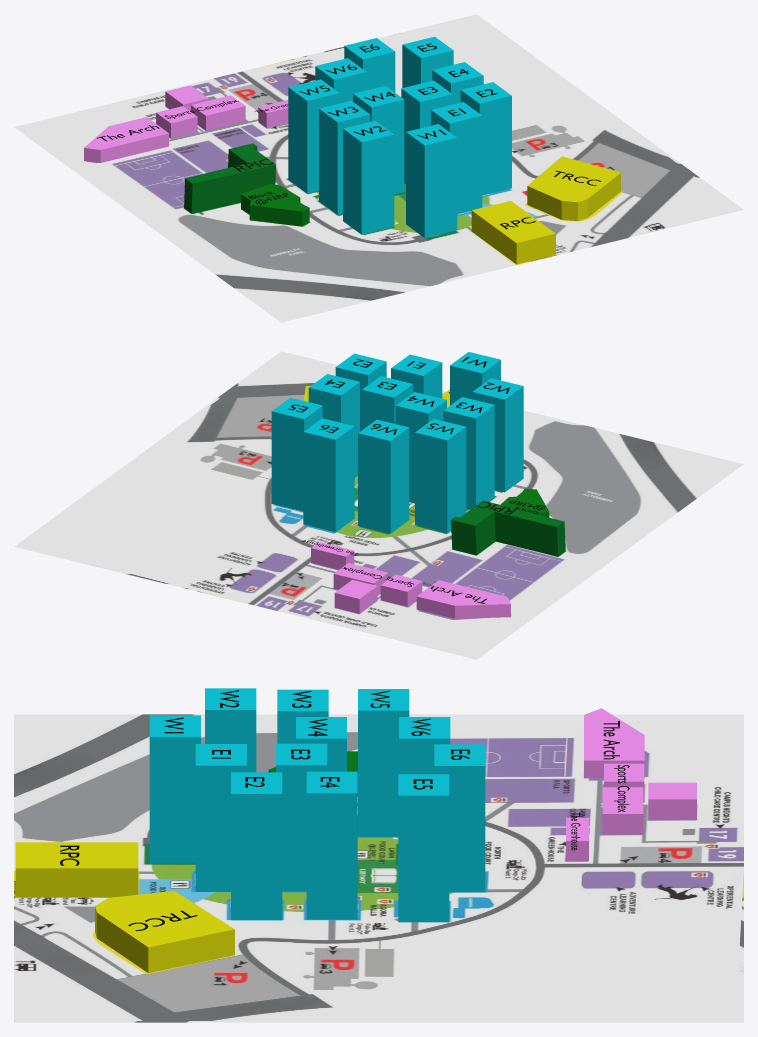
File: campusmap.glb
The picture shows the model from 3 angles, top to bottom: view 1: azimuth 30°, elevation 25°; view 2: azimuth 150°, elevation 25°; view 3: azimuth 270°, elevation 25°; orthographic projection. The views are drawn at different scales.
Parts seen in each view (by area): view 1: Plane, W1, W2, Plane.004, W5, Plane.001, E2, Cube, E1, W3, Plane.003, W4 (+10 smaller); view 2: Plane, E6, W6, W5, Plane.001, E5, W2, W3, Plane.003, E4, W4, E3 (+8 smaller); view 3: Plane, Plane.004, E5, E4, E2, W1, Cube, W5, E6, E1, E3, W2 (+8 smaller).
Part boxes in pixels (bbox=[...]): Plane: bbox=[14, 14, 743, 322]; W1: bbox=[406, 124, 457, 237]; W2: bbox=[343, 120, 394, 234]; Plane.004: bbox=[527, 156, 620, 220]; W5: bbox=[288, 79, 339, 193]; Plane.001: bbox=[184, 143, 275, 213]; E2: bbox=[460, 82, 511, 195]; Cube: bbox=[471, 201, 555, 264]; E1: bbox=[431, 102, 482, 213]; W3: bbox=[319, 100, 370, 214]; Plane.003: bbox=[84, 117, 168, 162]; W4: bbox=[353, 86, 404, 194]; Plane: bbox=[14, 351, 743, 659]; E6: bbox=[303, 418, 354, 532]; W6: bbox=[358, 419, 409, 533]; W5: bbox=[415, 419, 466, 532]; Plane.001: bbox=[451, 500, 565, 556]; E5: bbox=[271, 397, 322, 511]; W2: bbox=[472, 378, 523, 492]; W3: bbox=[443, 397, 494, 509]; Plane.003: bbox=[416, 580, 510, 618]; E4: bbox=[308, 374, 359, 477]; W4: bbox=[395, 392, 446, 502]; E3: bbox=[362, 376, 413, 429]; Plane: bbox=[14, 714, 743, 1022]; Plane.004: bbox=[95, 891, 234, 972]; E5: bbox=[398, 774, 449, 922]; E4: bbox=[306, 771, 357, 919]; E2: bbox=[231, 772, 282, 920]; W1: bbox=[149, 715, 200, 863]; Cube: bbox=[15, 842, 138, 897]; W5: bbox=[358, 689, 409, 837]; E6: bbox=[434, 744, 485, 892]; E1: bbox=[195, 744, 246, 891]; E3: bbox=[276, 743, 327, 891]; W2: bbox=[205, 688, 256, 772].
Bounding box in the file's own units: 26.23 × 5.09 × 26.23.
23 materials, 1 textured.
